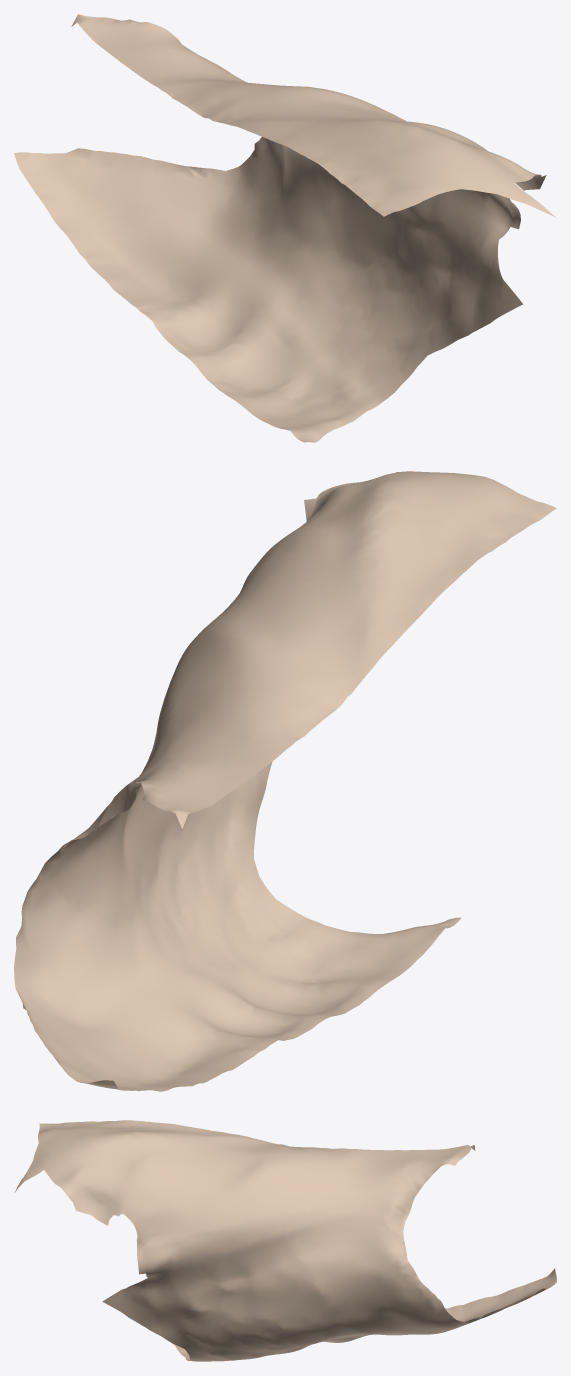
3 renders of one model, top to bottom at view 1: azimuth 30°, elevation 25°; view 2: azimuth 150°, elevation 25°; view 3: azimuth 270°, elevation 25°, orthographic. The views are drawn at different scales.
Parts seen in each view (by area): view 1: 左侧腹壁包被筋膜; view 2: 左侧腹壁包被筋膜; view 3: 左侧腹壁包被筋膜.
Boxes of the visible parts, x1,y1,x2,y2 form: 左侧腹壁包被筋膜: [14, 14, 555, 442]; 左侧腹壁包被筋膜: [14, 471, 556, 1091]; 左侧腹壁包被筋膜: [14, 1120, 556, 1361].
Bounding box in the file's own units: 0.2516 × 0.379 × 0.815.
